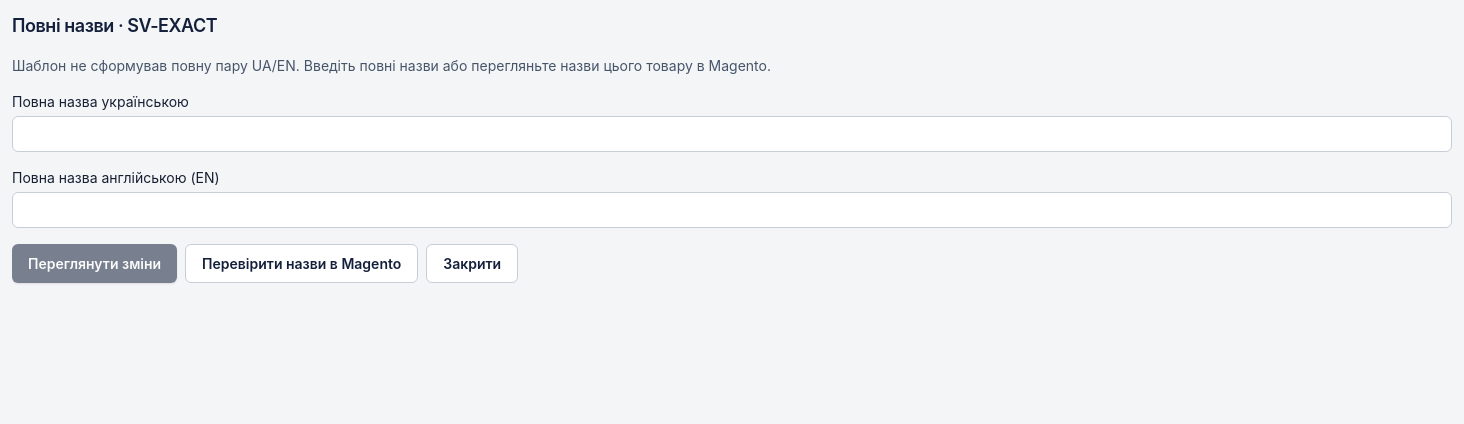
a stale import removes reviewed evidence and requires a fresh preview rather than permitting another apply
The width and height of the screenshot is (1464, 424).
What coordinates should you click on to do the following:
click the button "Перевірити назви в Magento"
I would click on:
 (302, 264)
Its box is x1=185 y1=244 x2=418 y2=283.
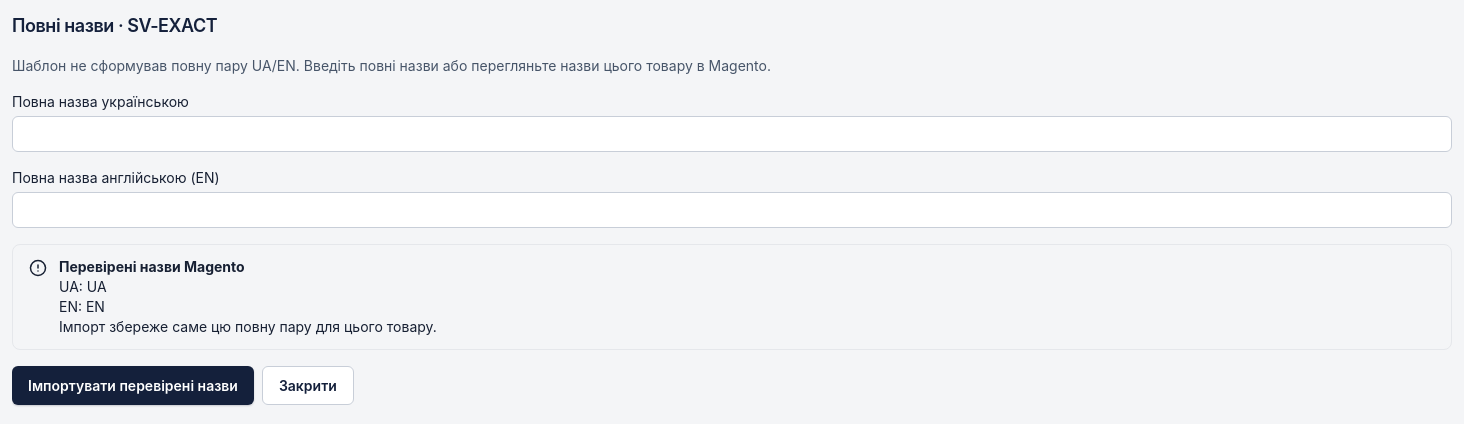
What coordinates should you click on to do the following:
click the button "Імпортувати перевірені назви"
I would click on:
 (133, 386)
Its box is x1=12 y1=366 x2=254 y2=405.
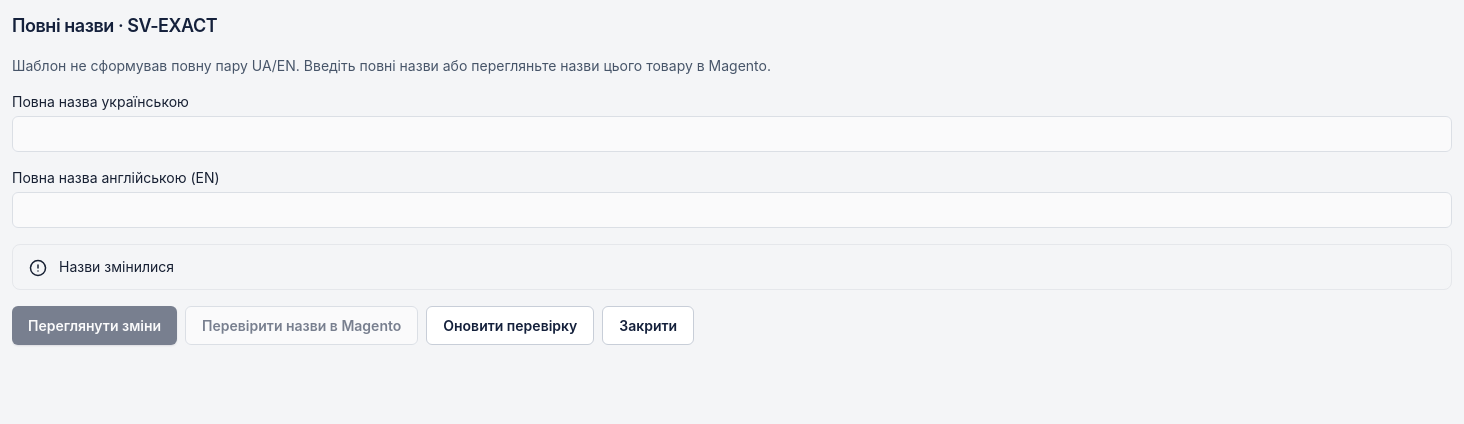
expect the text "Назви змінилися" is shown: met, box x1=59 y1=258 x2=174 y2=275
expect the button "Імпортувати перевірені назви" is gone: met
expect the button "Перевірити назви в Magento" is disabled: met, box x1=185 y1=306 x2=418 y2=345
